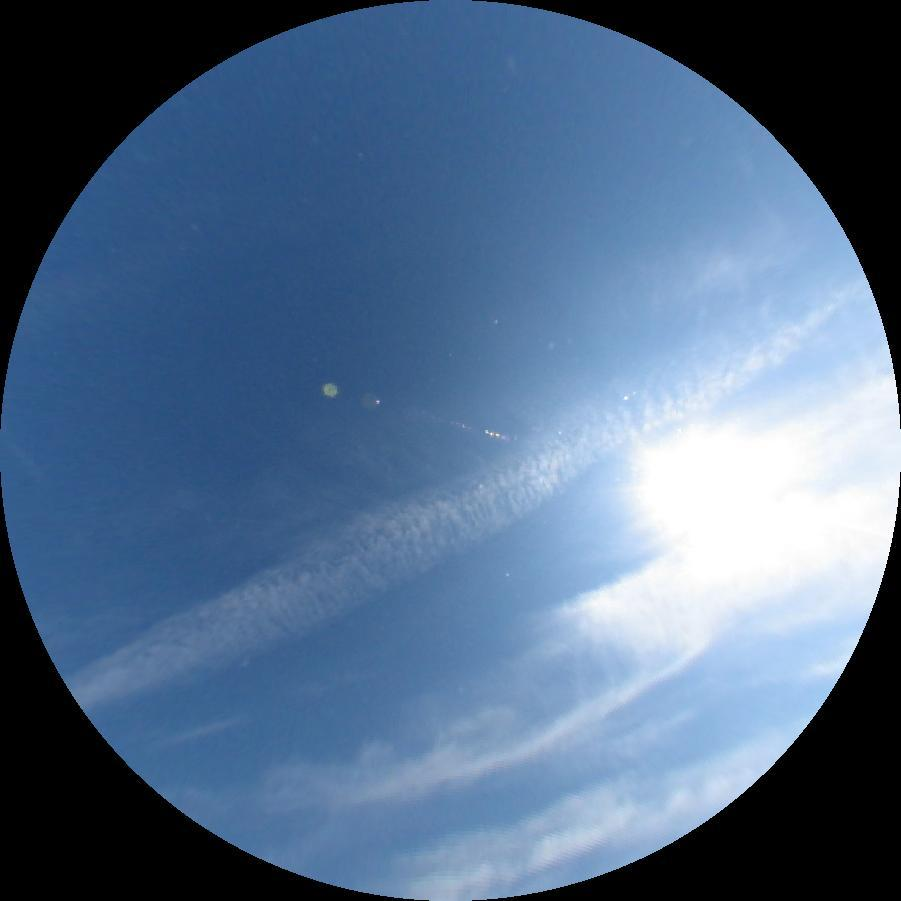contrail veryold: (63, 247, 890, 745)
sun: (649, 438, 779, 554)
